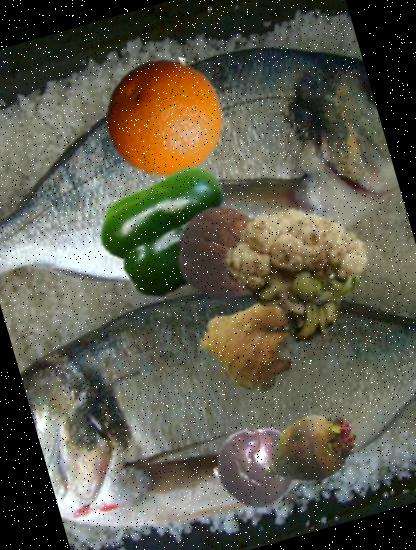Beetroot: (242, 383, 377, 518)
Cauliflower: (207, 184, 391, 367)
Ginger: (184, 261, 326, 403)
Orange: (89, 40, 240, 191)
Passion: (205, 416, 309, 520)
Pepper: (90, 148, 258, 316)
Walnut: (166, 195, 282, 311)
